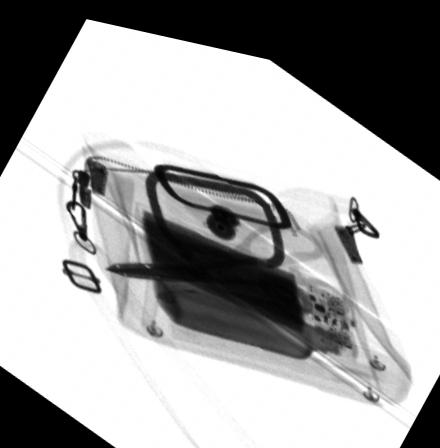Powerbank: (131, 193, 356, 344)
Scissors: (98, 201, 356, 301)
